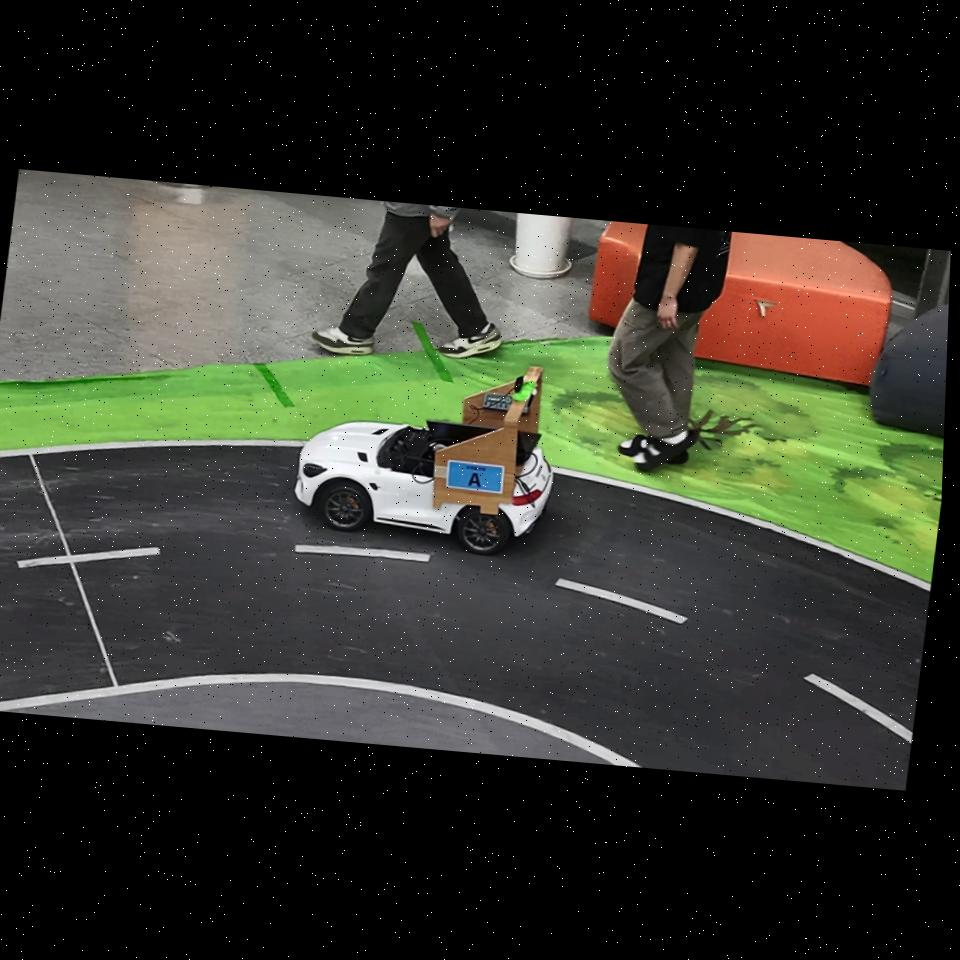broken_line: (803, 673, 912, 744), (554, 578, 689, 625), (16, 547, 160, 568), (295, 545, 431, 562)
